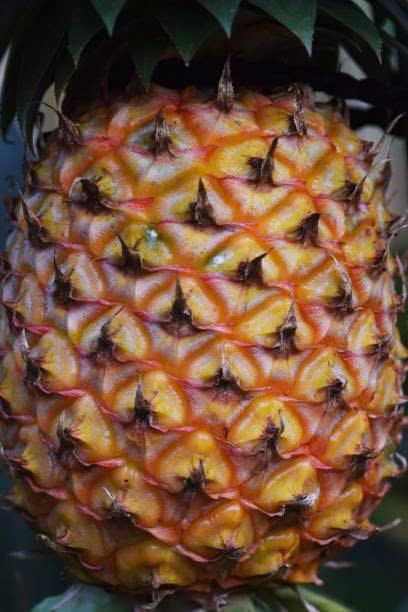pineapple: (6, 77, 408, 600)
